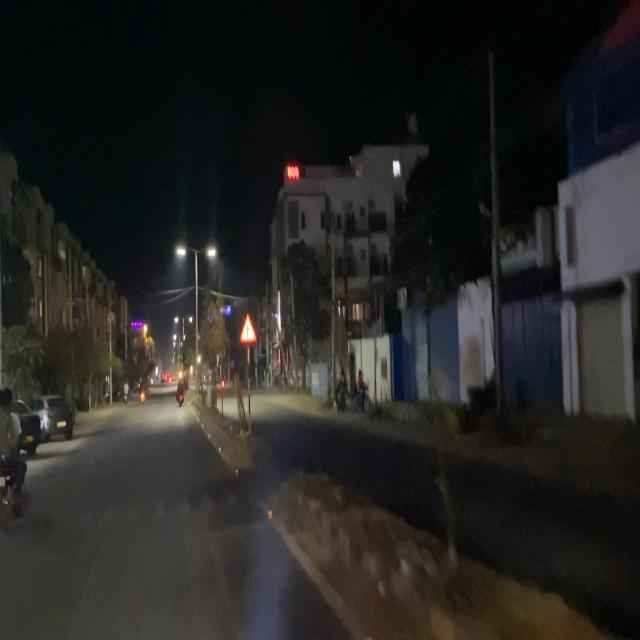bien_cam: (240, 311, 256, 349)
